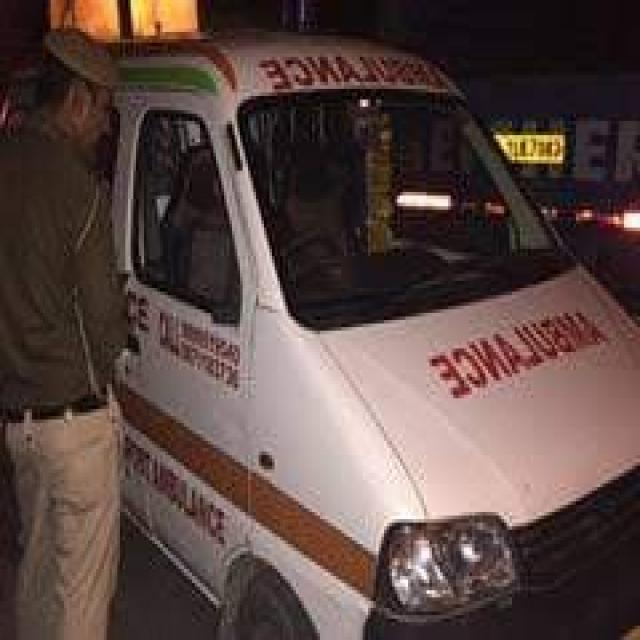Ambulance: (154, 12, 636, 640)
